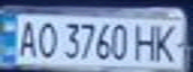0: (109, 20, 133, 61)
3: (60, 19, 81, 60)
6: (93, 20, 115, 61)
7: (78, 20, 96, 60)
A: (12, 17, 42, 59)
H: (133, 20, 160, 62)
K: (151, 20, 184, 63)
O: (33, 19, 60, 60)
